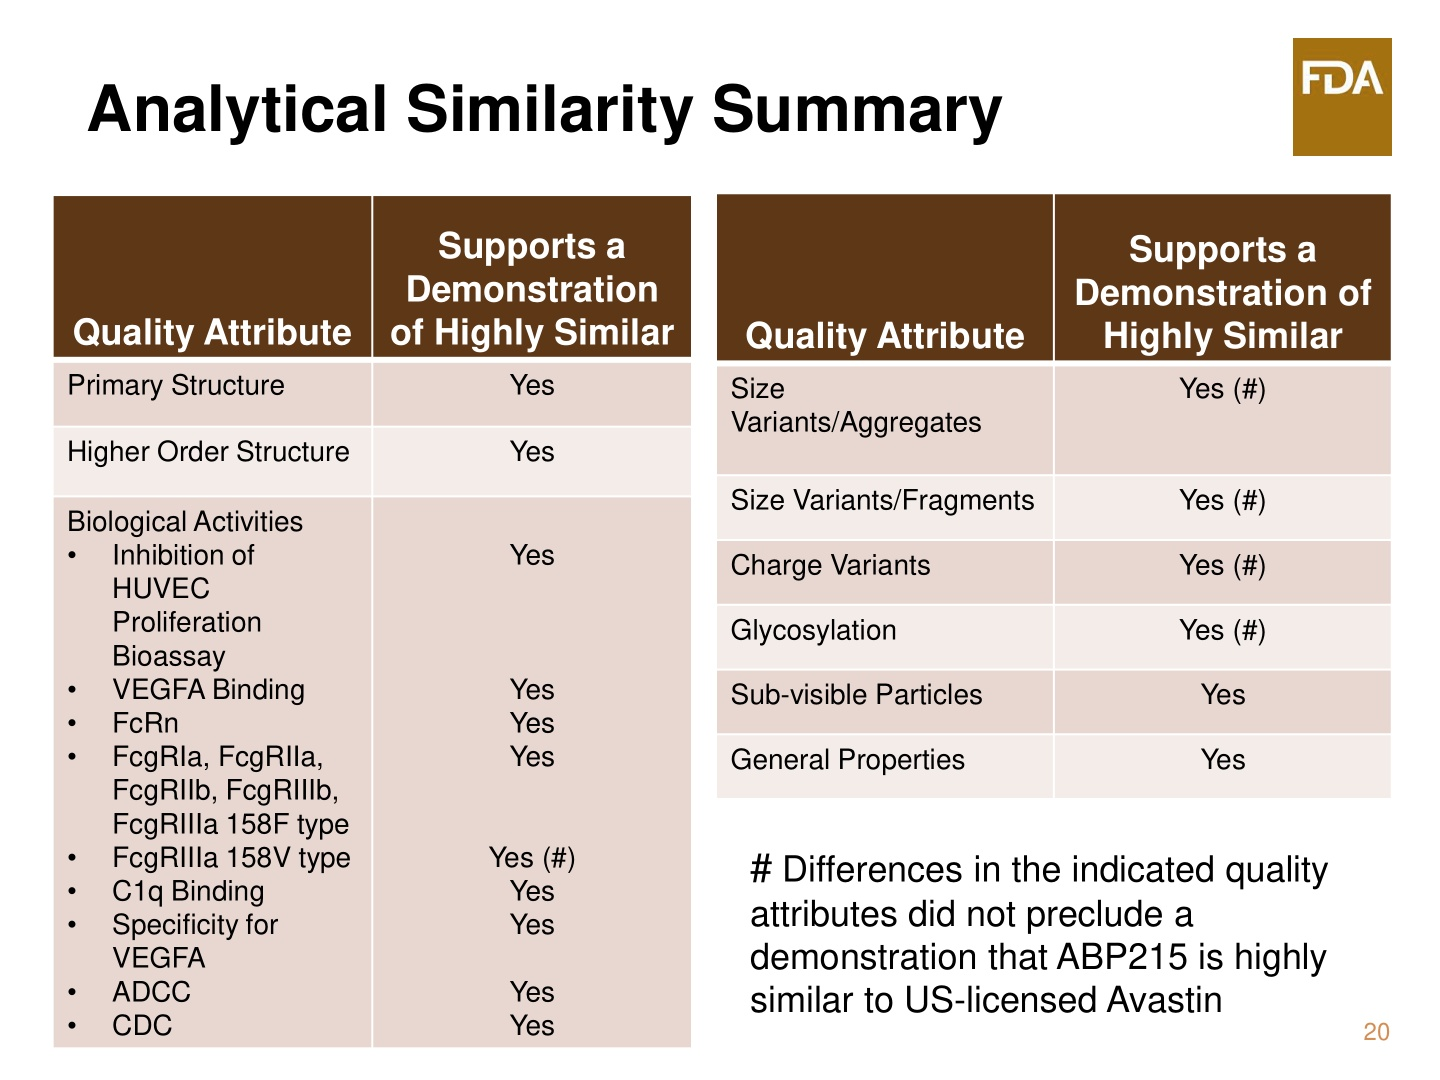full_lined: (52, 193, 694, 1049), (715, 191, 1394, 800)
